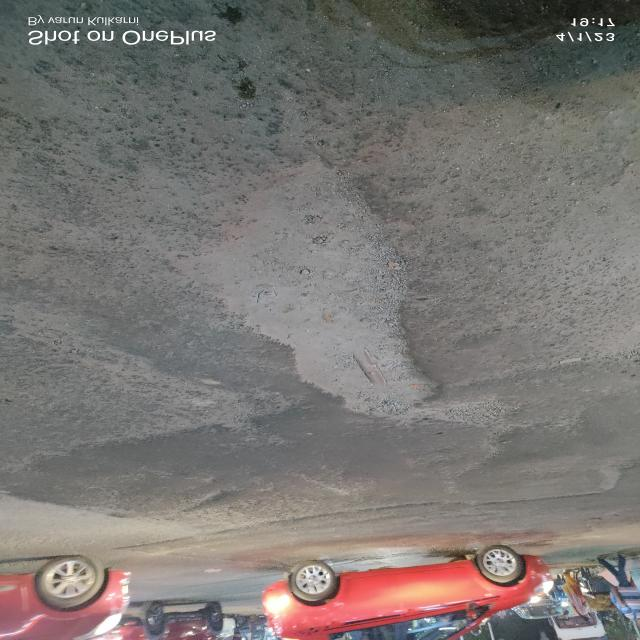potholes: (154, 162, 483, 417)
